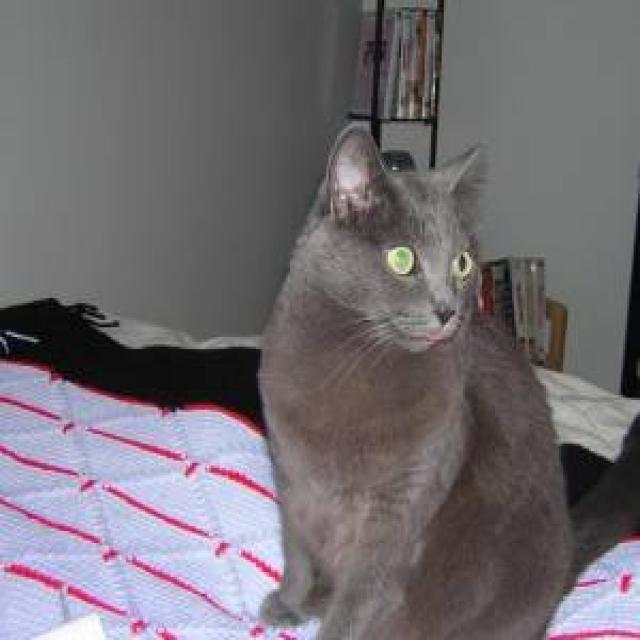Russian_Blue: (286, 112, 499, 368)
